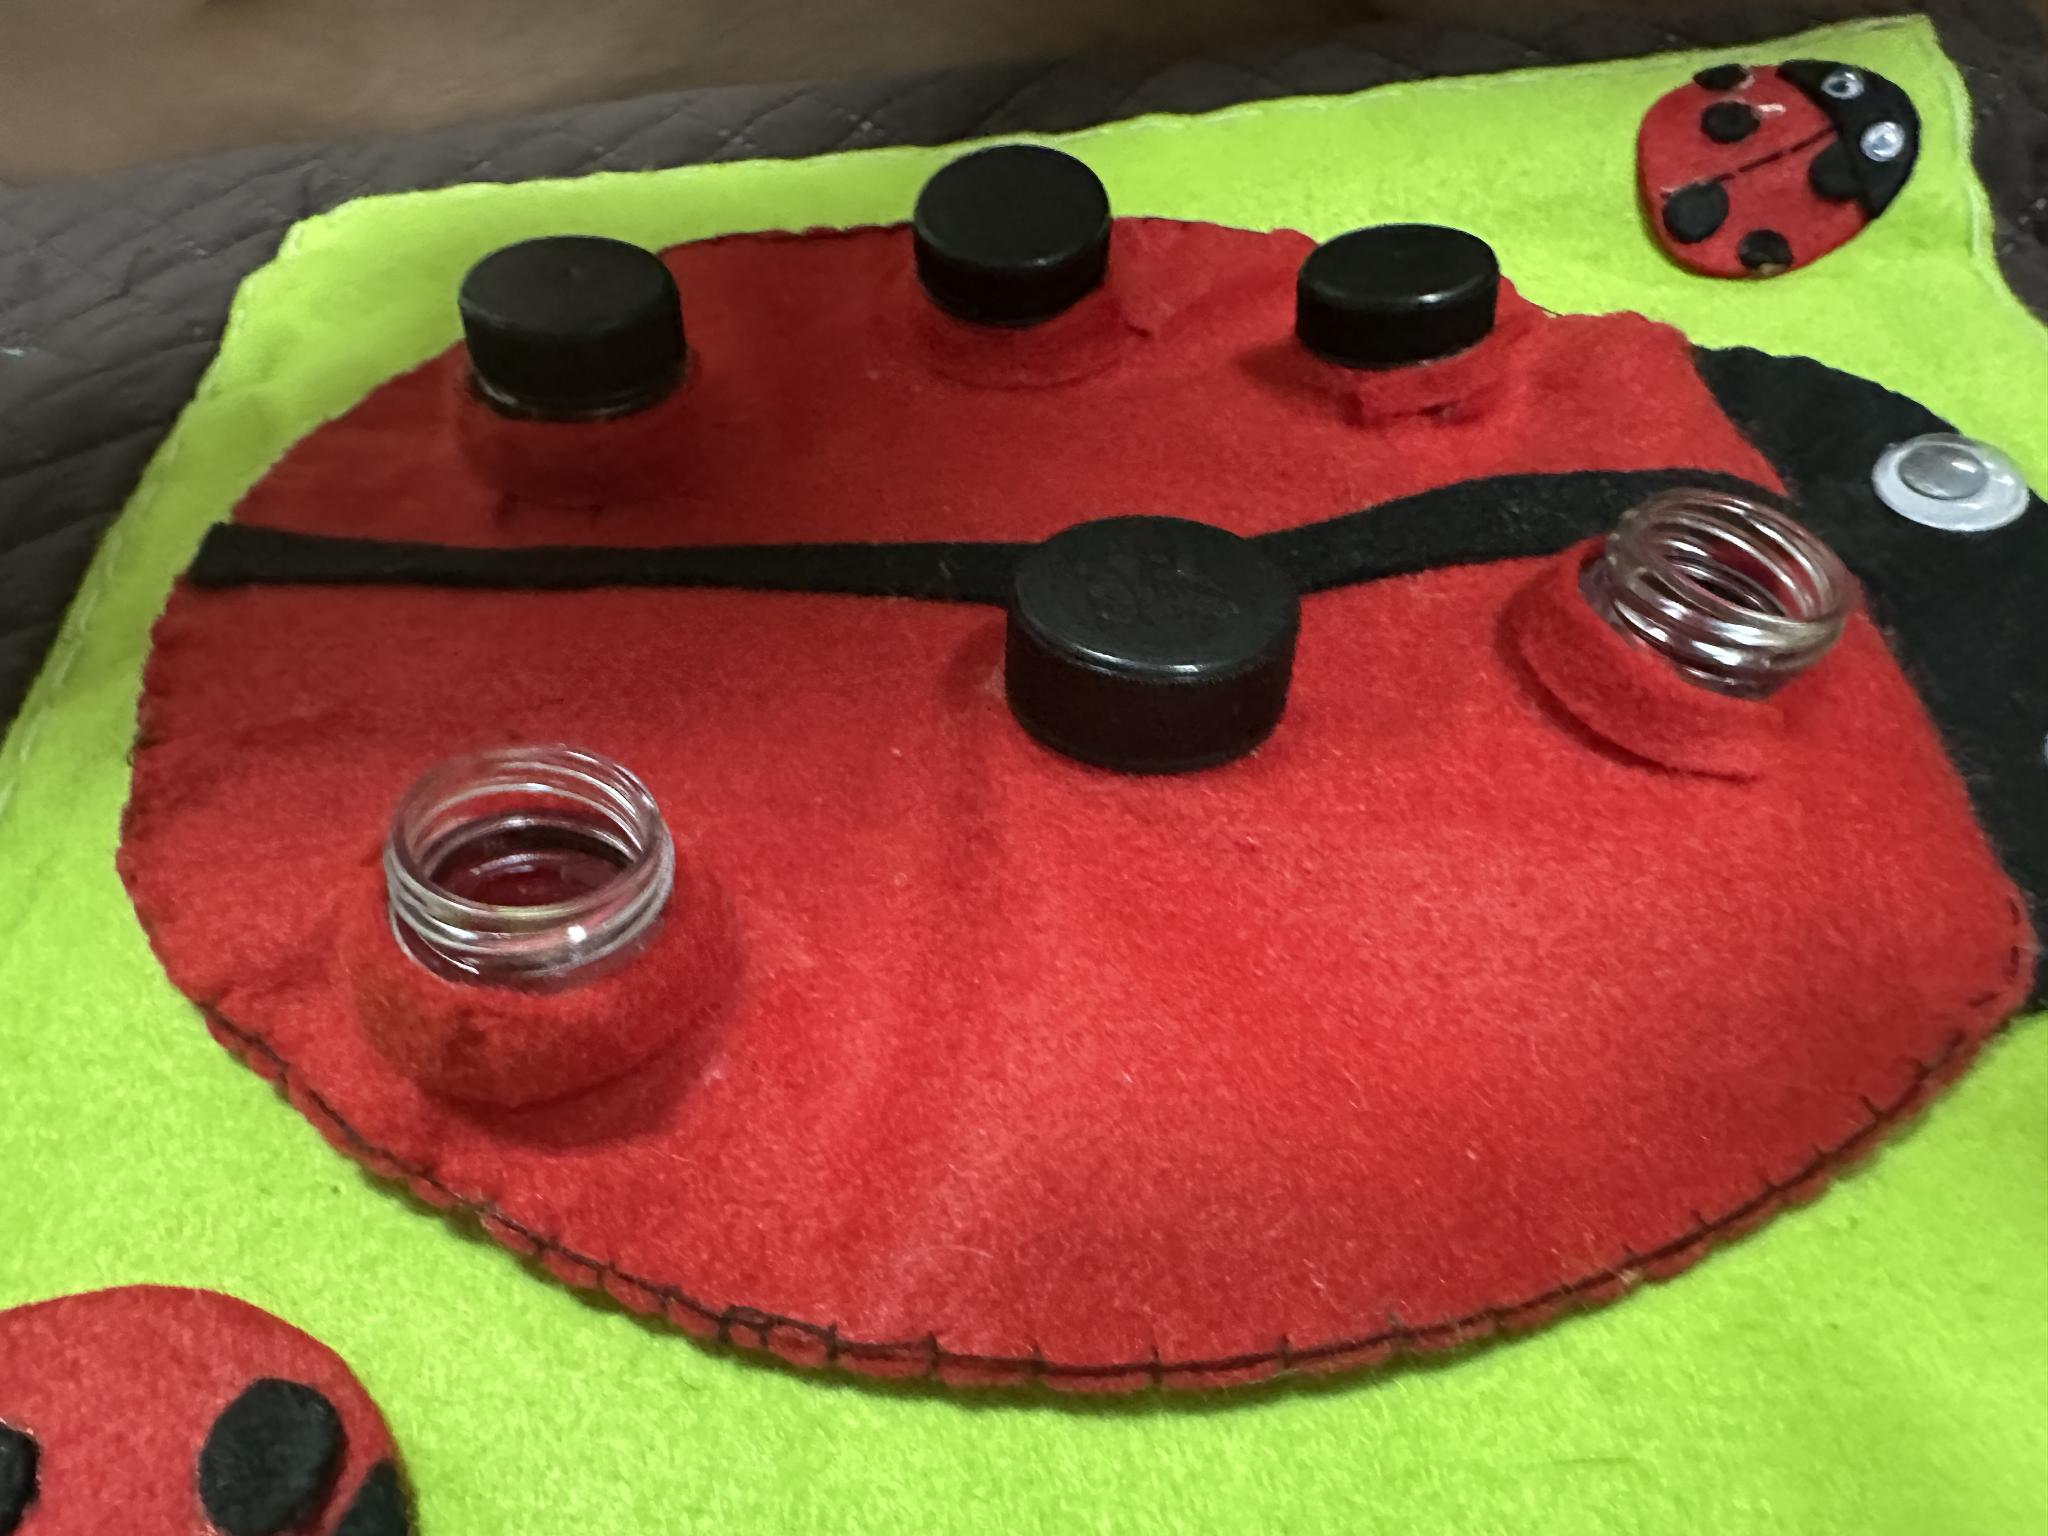cap_ok: (929, 494, 1385, 868), (414, 227, 792, 545), (858, 132, 1185, 424), (1268, 194, 1563, 444)
